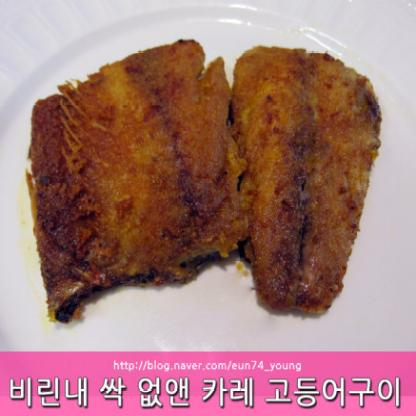Peixe: (10, 44, 403, 328)
